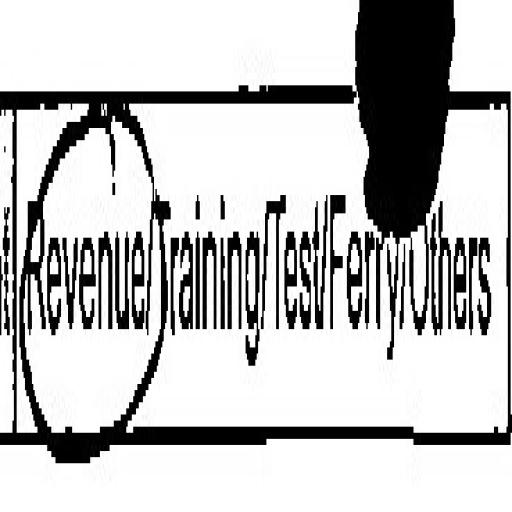check: (12, 15, 153, 512)
